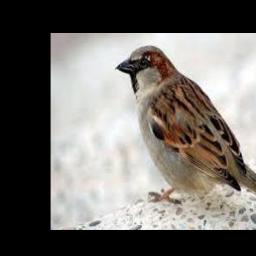Sparrow: (115, 46, 256, 216)
